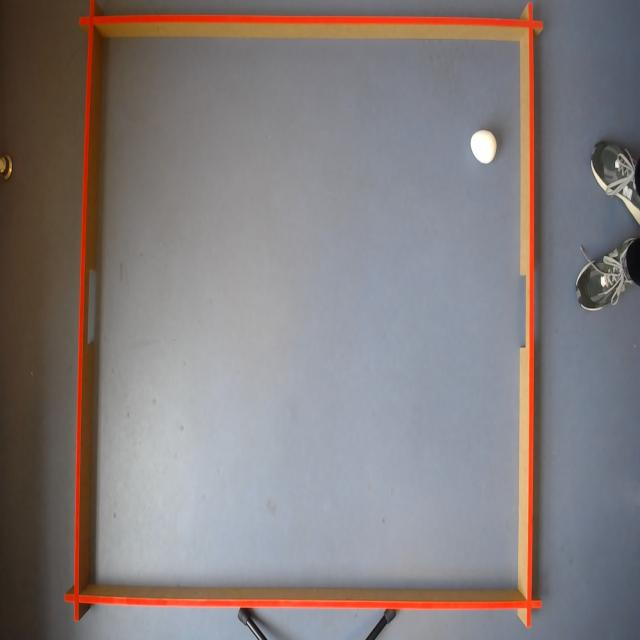egg: (470, 129, 498, 165)
